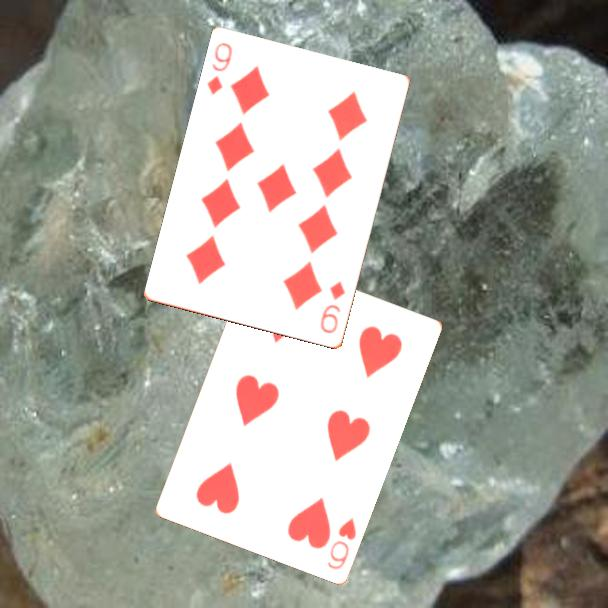d09: (317, 278, 348, 337), (204, 39, 235, 98)
h06: (324, 514, 359, 572)
